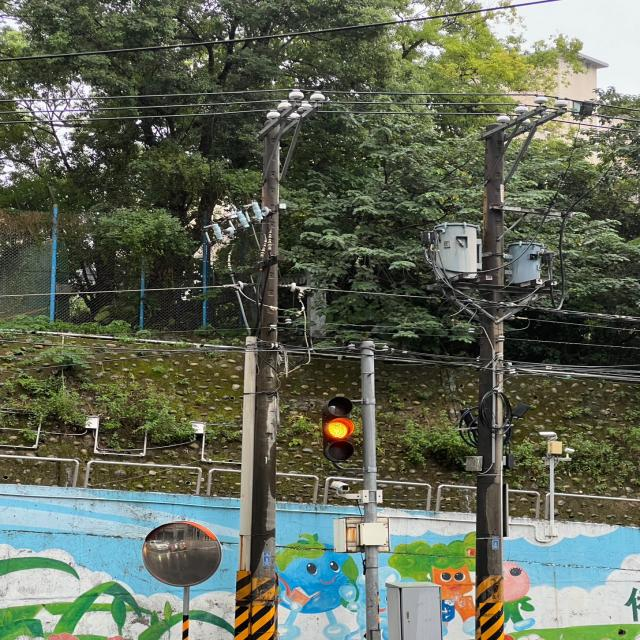yellow light: (321, 394, 355, 465)
